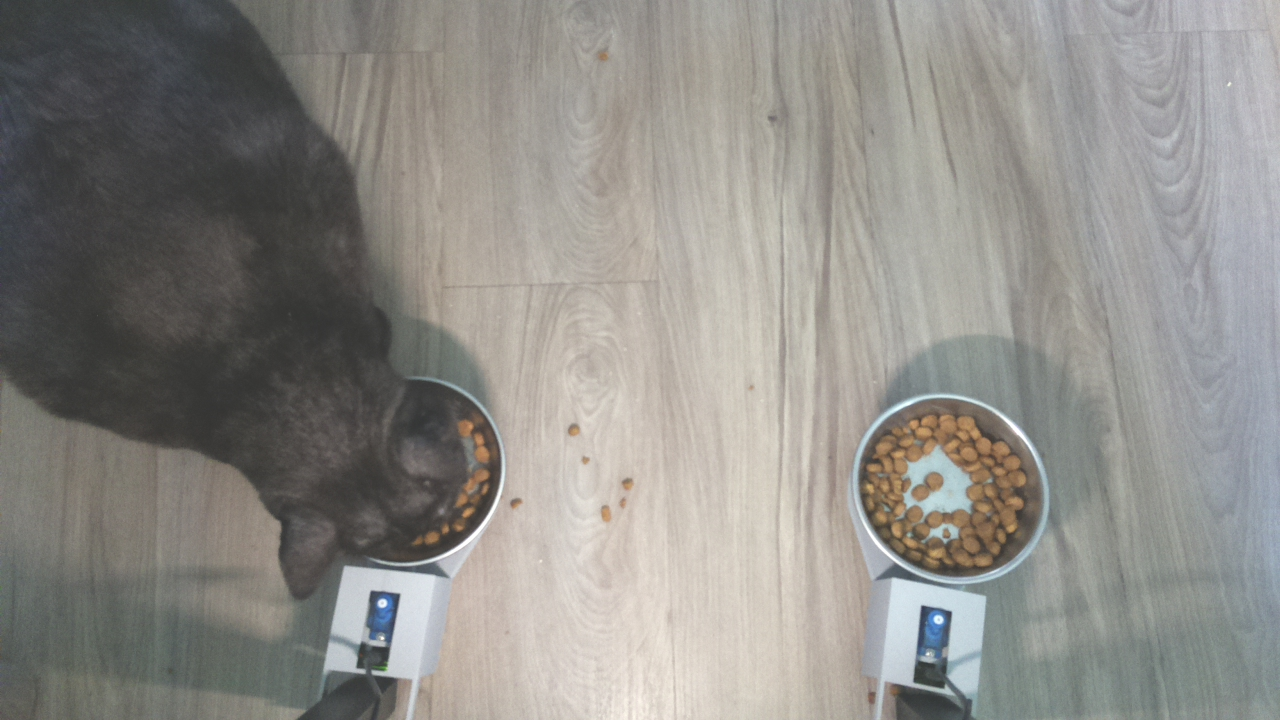open_bowl: (850, 390, 1050, 587)
saki_eating: (233, 309, 504, 604)
